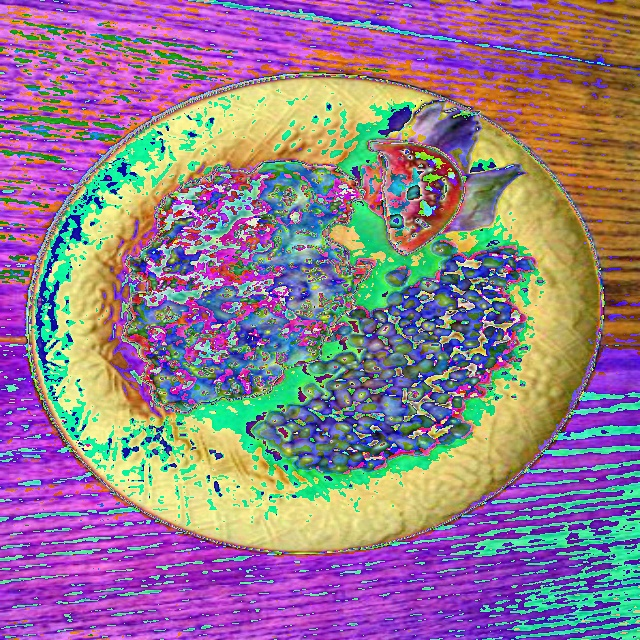background: (121, 100, 538, 474)
